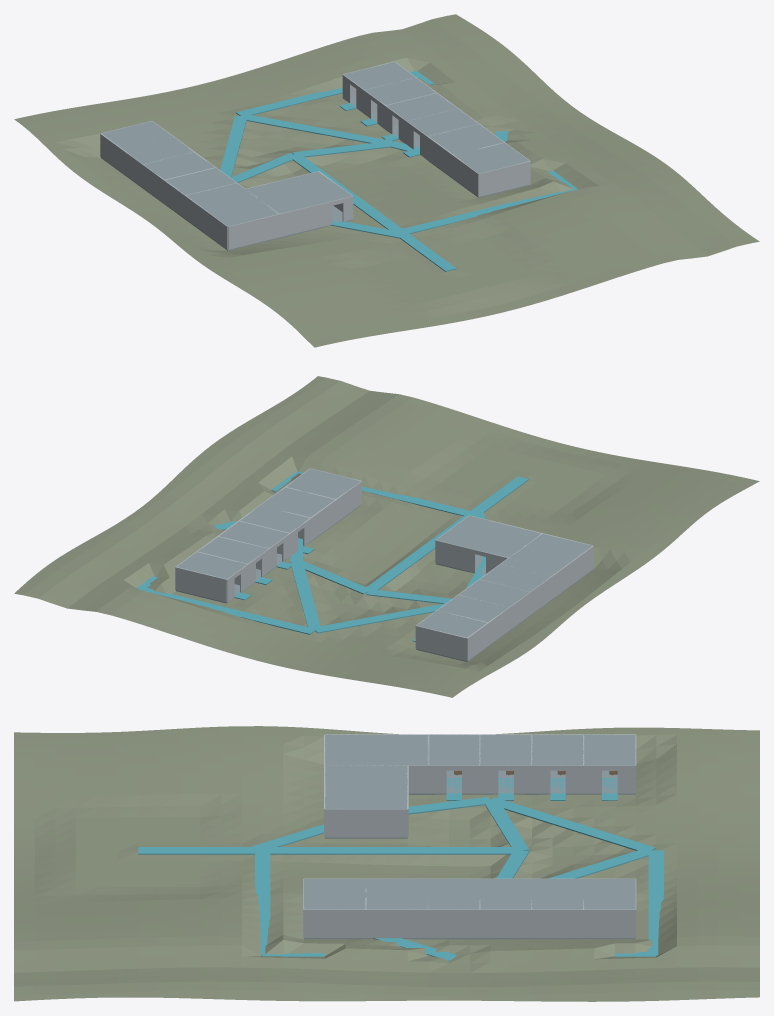
Rendered from furnished.glb.
The picture shows the model from 3 angles, top to bottom: view 1: azimuth 30°, elevation 25°; view 2: azimuth 150°, elevation 25°; view 3: azimuth 270°, elevation 25°; orthographic projection. The views are drawn at different scales.
Parts seen in each view (by area): view 1: Authored roadside terrain, Ceiling cap office, Ceiling cap manager, Ceiling cap plant, Ceiling cap laundry, Wall office S, Wall plant S, Wall manager S, Ceiling cap room5, Ceiling cap room1, Ceiling cap room2, Ceiling cap room6 (+14 smaller); view 2: Authored roadside terrain, Ceiling cap office, Ceiling cap manager, Ceiling cap plant, Ceiling cap laundry, Wall room5 N, Wall room1 N, Ceiling cap room4, Ceiling cap room3, Ceiling cap room2, Ceiling cap room5, Ceiling cap room1 (+15 smaller); view 3: Authored roadside terrain, Ceiling cap office, Ceiling cap manager, Wall office E, route-03 support 0, Ceiling cap laundry, Ceiling cap plant, Wall laundry E, Wall plant E, Ceiling cap room8, Ceiling cap room3, Ceiling cap room1 (+28 smaller).
Boxes of the visible parts, left/top/right/bottom form: Authored roadside terrain: left=14, top=14, right=759, bottom=347; Ceiling cap office: left=246, top=171, right=352, bottom=213; Ceiling cap manager: left=186, top=183, right=278, bottom=226; Ceiling cap plant: left=454, top=143, right=529, bottom=173; Ceiling cap laundry: left=428, top=124, right=503, bottom=154; Wall office S: left=279, top=201, right=332, bottom=237; Wall plant S: left=478, top=161, right=530, bottom=196; Wall manager S: left=228, top=214, right=279, bottom=249; Ceiling cap room5: left=343, top=62, right=415, bottom=89; Ceiling cap room1: left=102, top=121, right=172, bottom=148; Ceiling cap room2: left=123, top=136, right=193, bottom=164; Ceiling cap room6: left=365, top=77, right=435, bottom=105; Authored roadside terrain: left=14, top=376, right=759, bottom=697; Ceiling cap office: left=436, top=515, right=541, bottom=557; Ceiling cap manager: left=501, top=534, right=592, bottom=576; Ceiling cap plant: left=286, top=468, right=360, bottom=498; Ceiling cap laundry: left=260, top=487, right=334, bottom=517; Wall room5 N: left=175, top=567, right=226, bottom=602; Wall room1 N: left=416, top=625, right=467, bottom=661; Ceiling cap room4: left=480, top=564, right=550, bottom=591; Ceiling cap room3: left=459, top=579, right=529, bottom=607; Ceiling cap room2: left=438, top=595, right=508, bottom=622; Ceiling cap room5: left=176, top=552, right=246, bottom=579; Ceiling cap room1: left=416, top=610, right=486, bottom=637; Authored roadside terrain: left=14, top=726, right=759, bottom=1001; Ceiling cap office: left=325, top=765, right=407, bottom=808; Ceiling cap manager: left=325, top=734, right=428, bottom=765; Wall office E: left=325, top=808, right=407, bottom=837; route-03 support 0: left=252, top=847, right=521, bottom=854; Ceiling cap laundry: left=366, top=879, right=428, bottom=909; Ceiling cap plant: left=304, top=879, right=366, bottom=909; Wall laundry E: left=366, top=909, right=428, bottom=938; Wall plant E: left=304, top=909, right=366, bottom=938; Ceiling cap room8: left=428, top=879, right=480, bottom=909; Ceiling cap room3: left=480, top=734, right=531, bottom=765; Ceiling cap room1: left=584, top=734, right=635, bottom=765.
Bounding box in the file's own units: 61.8 × 3.76 × 72.
16 materials, 12 textured.
